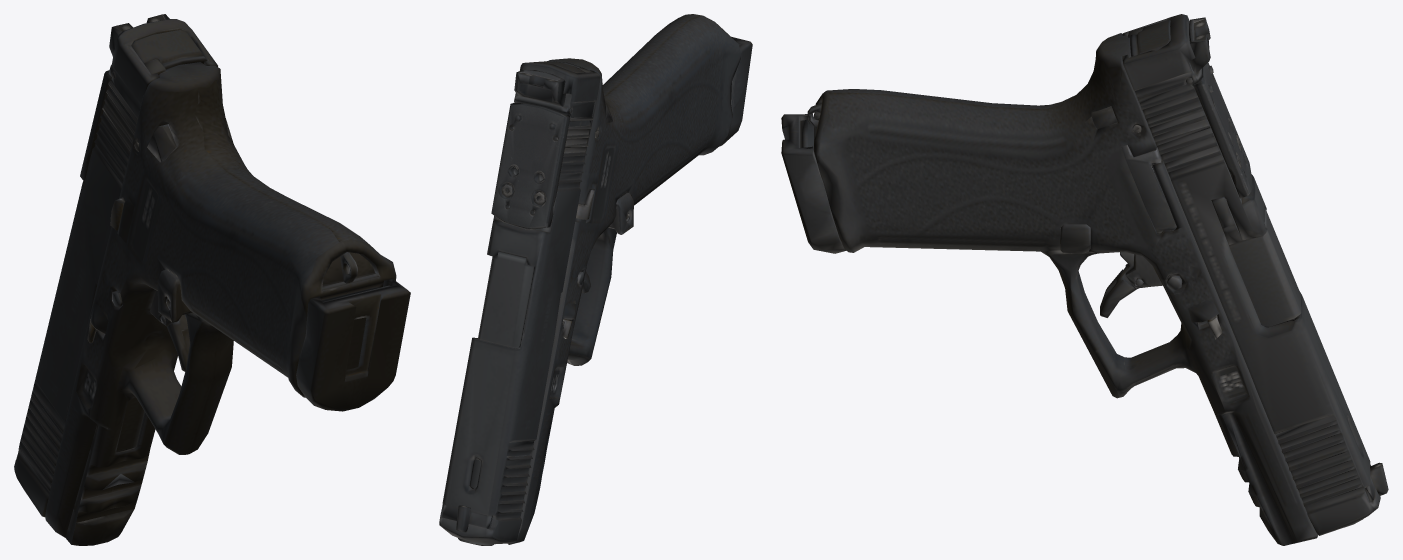
The model's file is GlockMelee.fbx.
3 views of the same model, side by side, from view 1: azimuth 30°, elevation 25°; view 2: azimuth 150°, elevation 25°; view 3: azimuth 270°, elevation 25° (orthographic). The views are drawn at different scales.
Parts seen in each view (by area): view 1: Glock; view 2: Glock; view 3: Glock.
Boxes of the visible parts, x1,y1,x2,y2 form: Glock: (14, 14, 410, 545); Glock: (439, 14, 752, 545); Glock: (781, 14, 1388, 545).
Size of the model in its own units: 0.0266 by 0.1493 by 0.1593.
